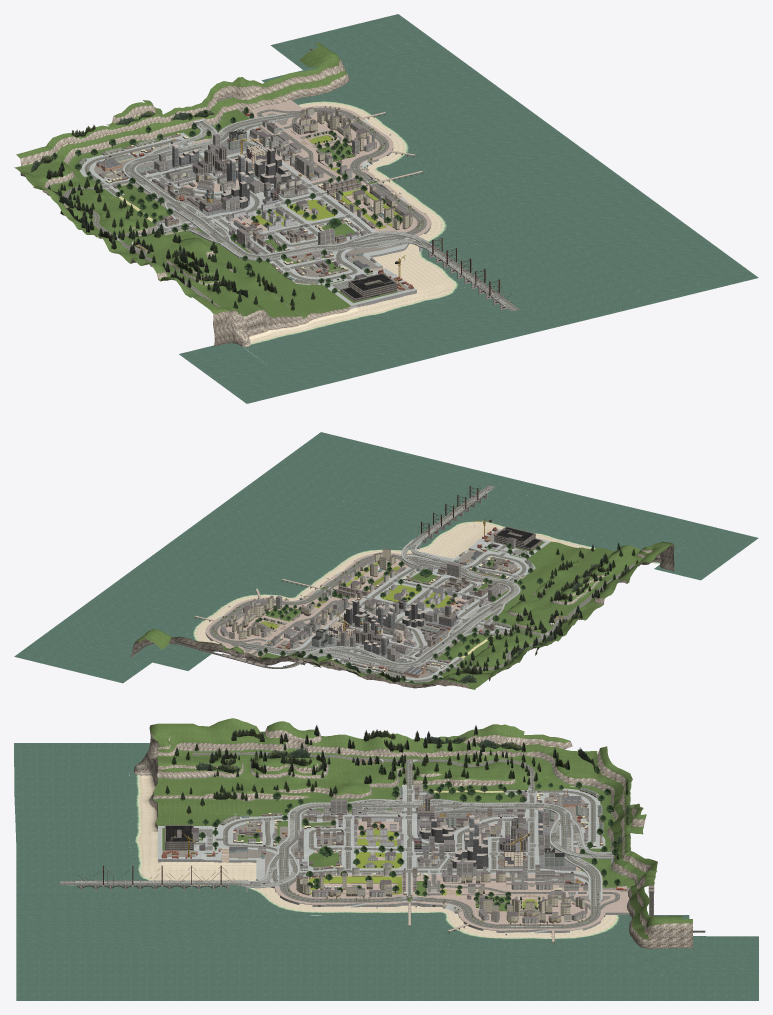
Rendered from file_salesforce.glb.
3 views of the same model, one above another, from view 1: azimuth 30°, elevation 25°; view 2: azimuth 150°, elevation 25°; view 3: azimuth 270°, elevation 25° (orthographic). The views are drawn at different scales.
Visible parts, largest first — view 1: 04_10_WorldCityStreet, 02_03_WorldCityStreet, 08_11_WorldCityStreet, 05_10_WorldCityStreet, 03_10_WorldCityStreet, 10_12_WorldCitySea, 01_02_WorldCitySea, 05_08_WorldCityBuildings, 01_01_WorldCitySea, 07_04_WorldCitySea, 08_06_WorldCitySea, 09_08_WorldCitySea (+89 smaller); view 2: 09_12_WorldCitySea, 10_12_WorldCitySea, 01_01_WorldCitySea, 07_04_WorldCitySea, 08_06_WorldCitySea, 09_08_WorldCitySea, 01_02_WorldCitySea, 09_06_WorldCitySea, 10_08_WorldCitySea, 03_01_WorldCitySea, 10_06_WorldCitySea, 08_04_WorldCitySea (+88 smaller); view 3: 02_03_WorldCityStreet, 08_11_WorldCityStreet, 02_09_WorldCityStreet, 02_04_WorldCityStreet, 02_08_WorldCityStreet, 02_06_WorldCityStreet, 09_12_WorldCitySea, 10_12_WorldCitySea, 02_07_WorldCityStreet, 03_04_WorldCityStreet, 01_02_WorldCitySea, 07_04_WorldCitySea (+122 smaller).
Boxes of the visible parts, x1,y1,x2,y2 form: 04_10_WorldCityStreet: [98, 102, 181, 161]; 02_03_WorldCityStreet: [216, 296, 288, 347]; 08_11_WorldCityStreet: [295, 43, 349, 97]; 05_10_WorldCityStreet: [152, 104, 228, 149]; 03_10_WorldCityStreet: [48, 126, 129, 175]; 10_12_WorldCitySea: [347, 14, 431, 50]; 01_02_WorldCitySea: [186, 346, 271, 381]; 05_08_WorldCityBuildings: [213, 148, 291, 193]; 01_01_WorldCitySea: [217, 368, 301, 403]; 07_04_WorldCitySea: [439, 227, 514, 261]; 08_06_WorldCitySea: [424, 172, 506, 206]; 09_08_WorldCitySea: [418, 116, 498, 150]; 09_12_WorldCitySea: [58, 646, 129, 677]; 10_12_WorldCitySea: [14, 636, 86, 667]; 01_01_WorldCitySea: [687, 526, 758, 556]; 07_04_WorldCitySea: [351, 520, 417, 547]; 08_06_WorldCitySea: [256, 546, 325, 576]; 09_08_WorldCitySea: [162, 572, 231, 601]; 01_02_WorldCitySea: [673, 545, 732, 575]; 09_06_WorldCitySea: [212, 535, 281, 564]; 10_08_WorldCitySea: [118, 561, 187, 590]; 03_01_WorldCitySea: [603, 506, 671, 535]; 10_06_WorldCitySea: [168, 525, 237, 554]; 08_04_WorldCitySea: [307, 509, 375, 538]; 02_03_WorldCityStreet: [133, 737, 199, 795]; 08_11_WorldCityStreet: [629, 903, 705, 948]; 02_09_WorldCityStreet: [505, 747, 570, 786]; 02_04_WorldCityStreet: [198, 742, 261, 782]; 02_08_WorldCityStreet: [443, 750, 506, 787]; 02_06_WorldCityStreet: [321, 746, 384, 784]; 09_12_WorldCitySea: [688, 949, 758, 974]; 10_12_WorldCitySea: [689, 975, 758, 1000]; 02_07_WorldCityStreet: [383, 748, 448, 786]; 03_04_WorldCityStreet: [198, 781, 260, 814]; 01_02_WorldCitySea: [75, 743, 139, 770]; 07_04_WorldCitySea: [200, 898, 278, 923].
Size of the model in its own units: 24.92 by 1.93 by 30.41.
Materials: 7 (7 with a texture image).
